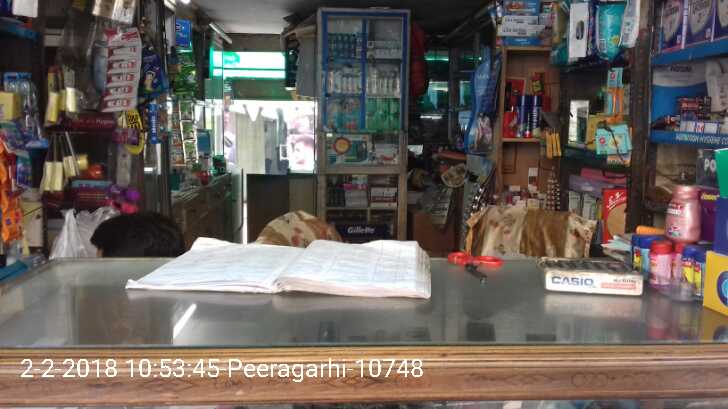vicks: (325, 28, 364, 60)
